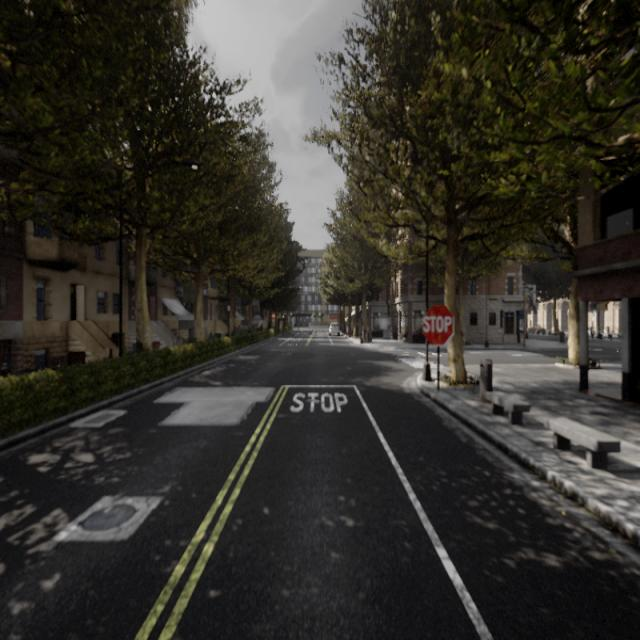stop sign: (420, 301, 455, 348), (422, 312, 453, 334)
